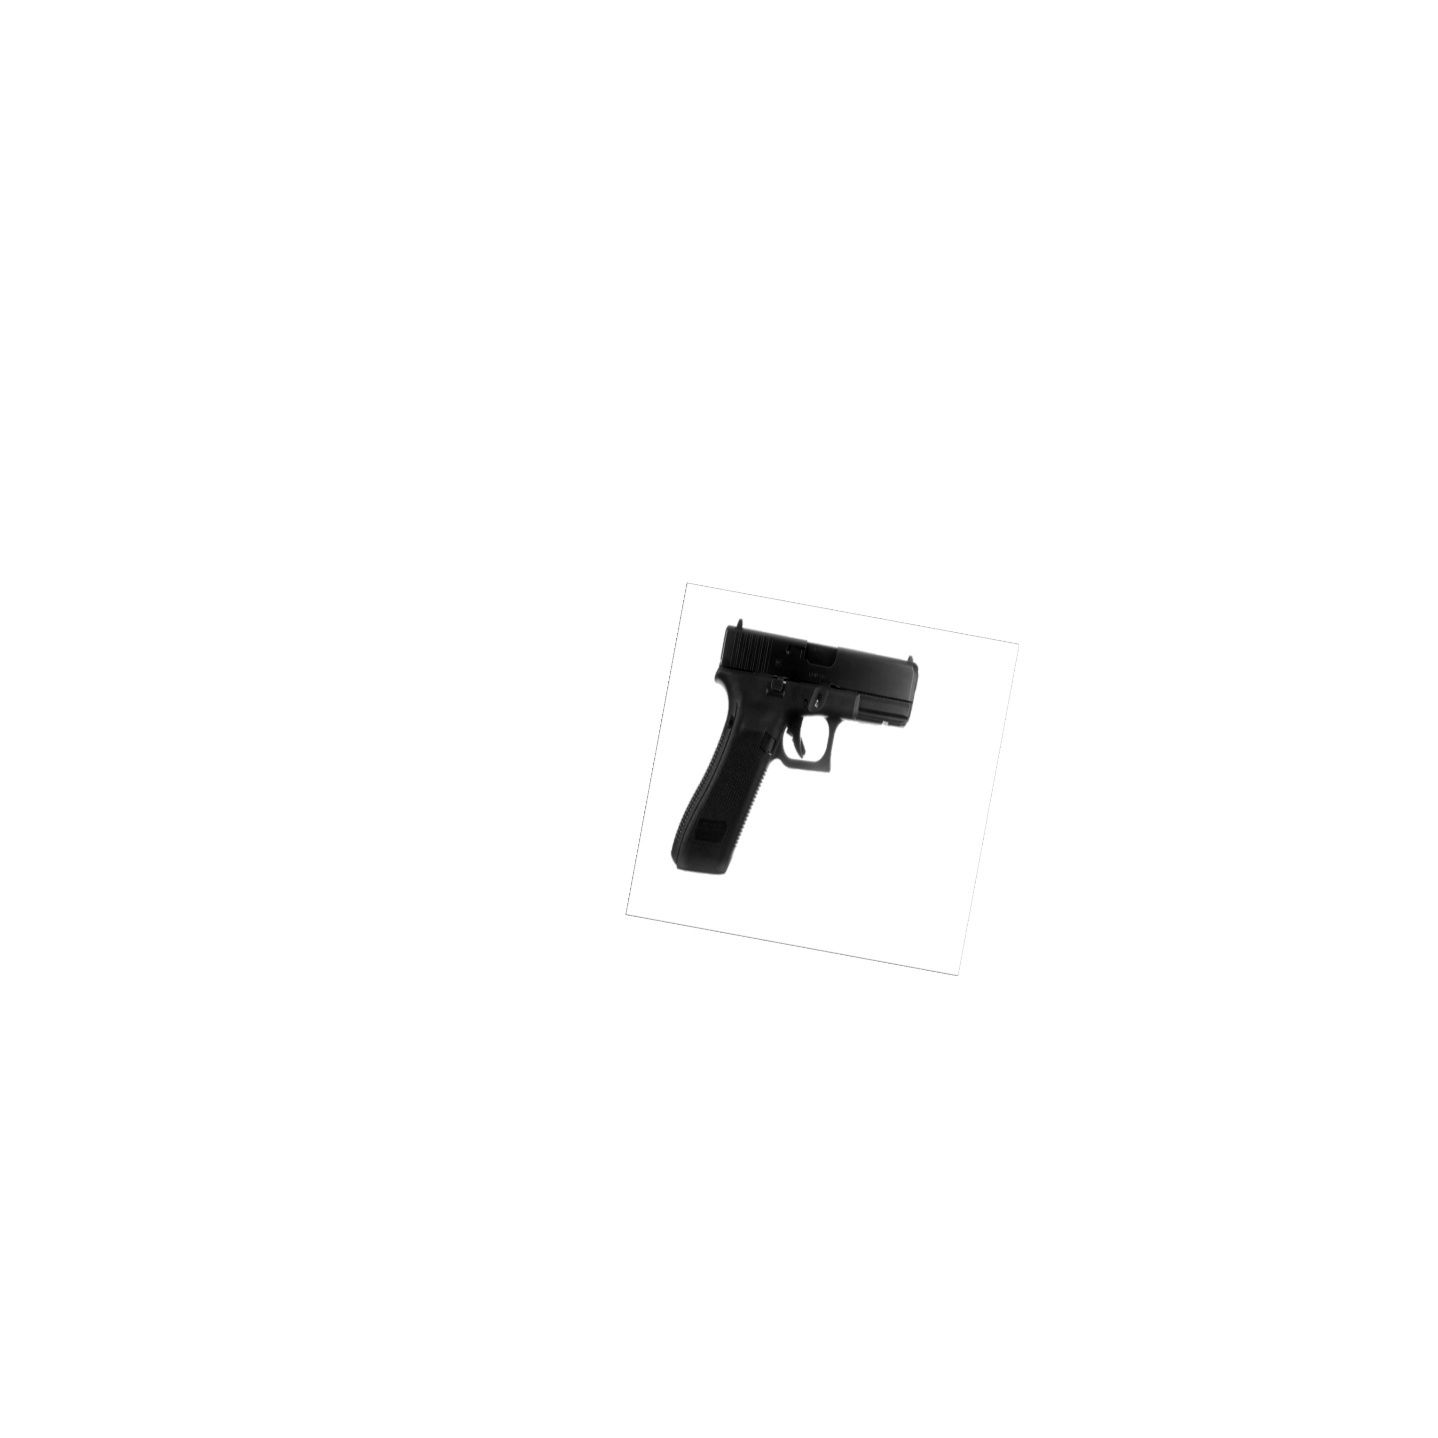gun: (672, 614, 928, 886)
